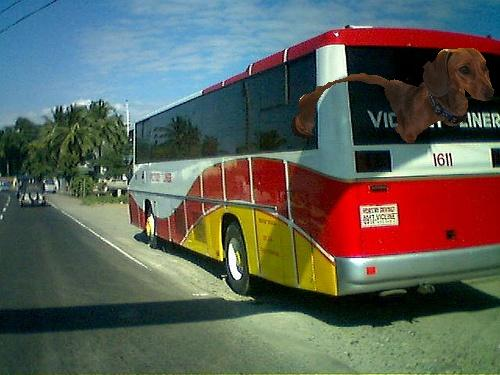tampered: (292, 49, 494, 143)
